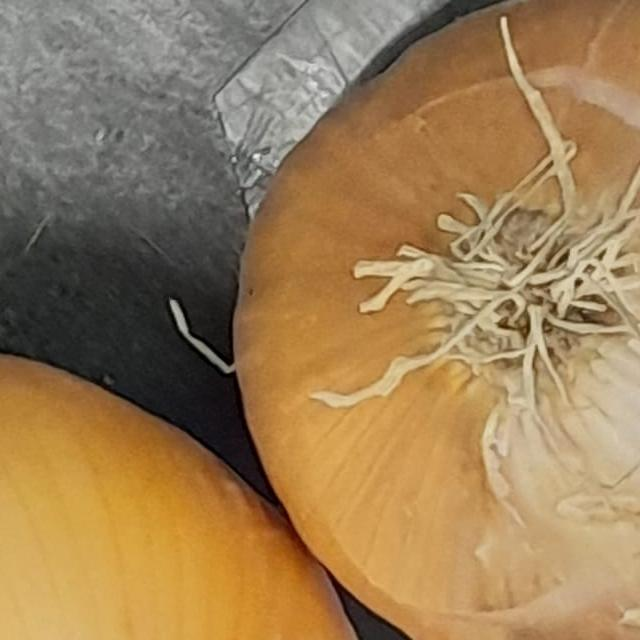onion: (213, 0, 640, 640), (0, 293, 423, 640)
